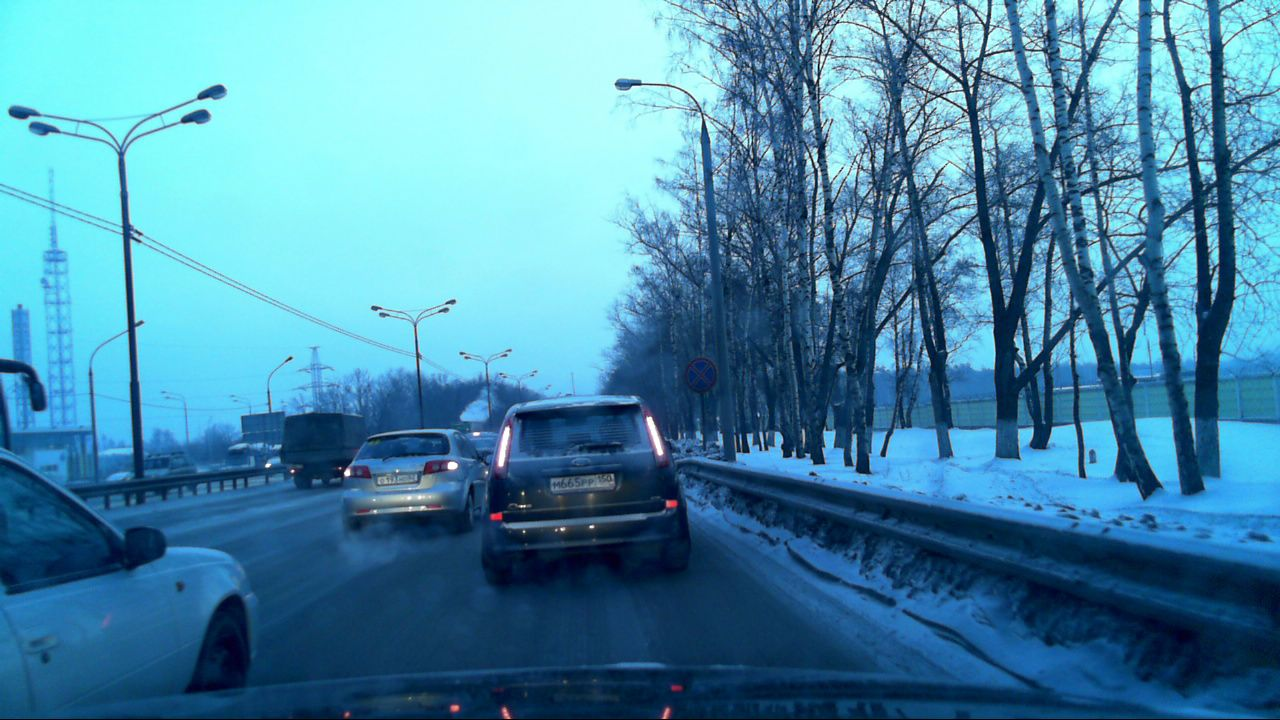No Parking: (684, 358, 718, 394)
